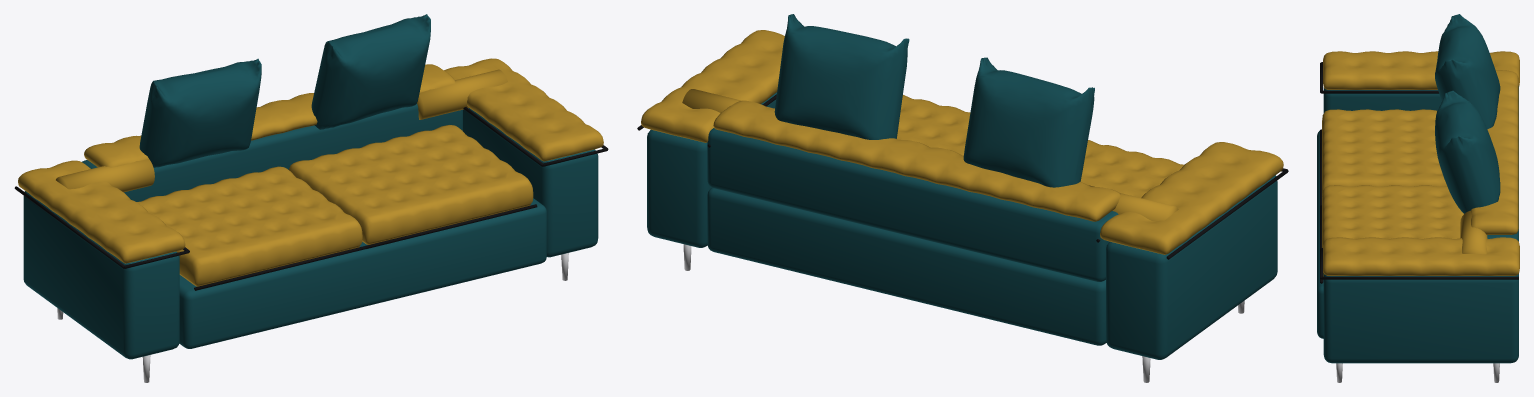
The model's file is divano_lobby.glb.
3 renders of one model, left to right at view 1: azimuth 30°, elevation 25°; view 2: azimuth 150°, elevation 25°; view 3: azimuth 270°, elevation 25°, orthographic. The views are drawn at different scales.
Visible parts, largest first — view 1: divano_lobby.001; view 2: divano_lobby.001; view 3: divano_lobby.001.
Boxes of the visible parts, x1,y1,x2,y2 form: divano_lobby.001: (14,14,608,382); divano_lobby.001: (637,14,1288,382); divano_lobby.001: (1317,14,1519,382).
Size of the model in its own units: 2.27 by 1.05 by 0.9035.
